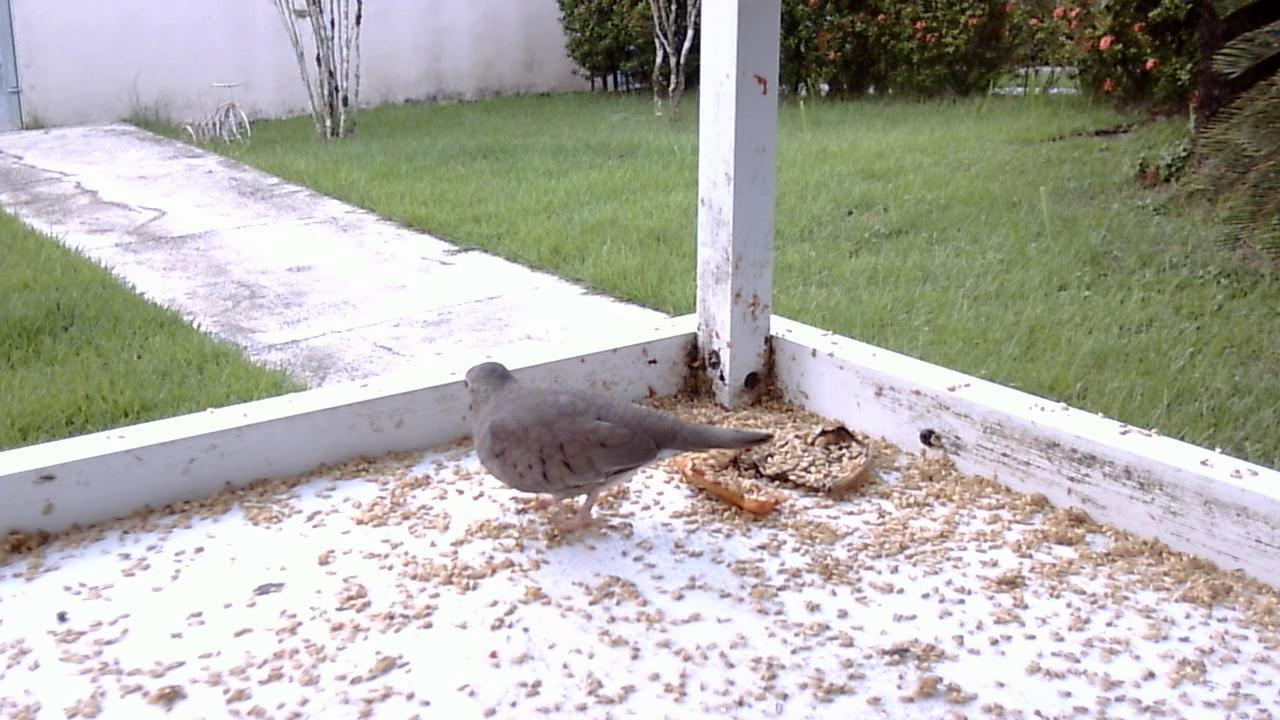rolinha: (452, 352, 773, 551)
